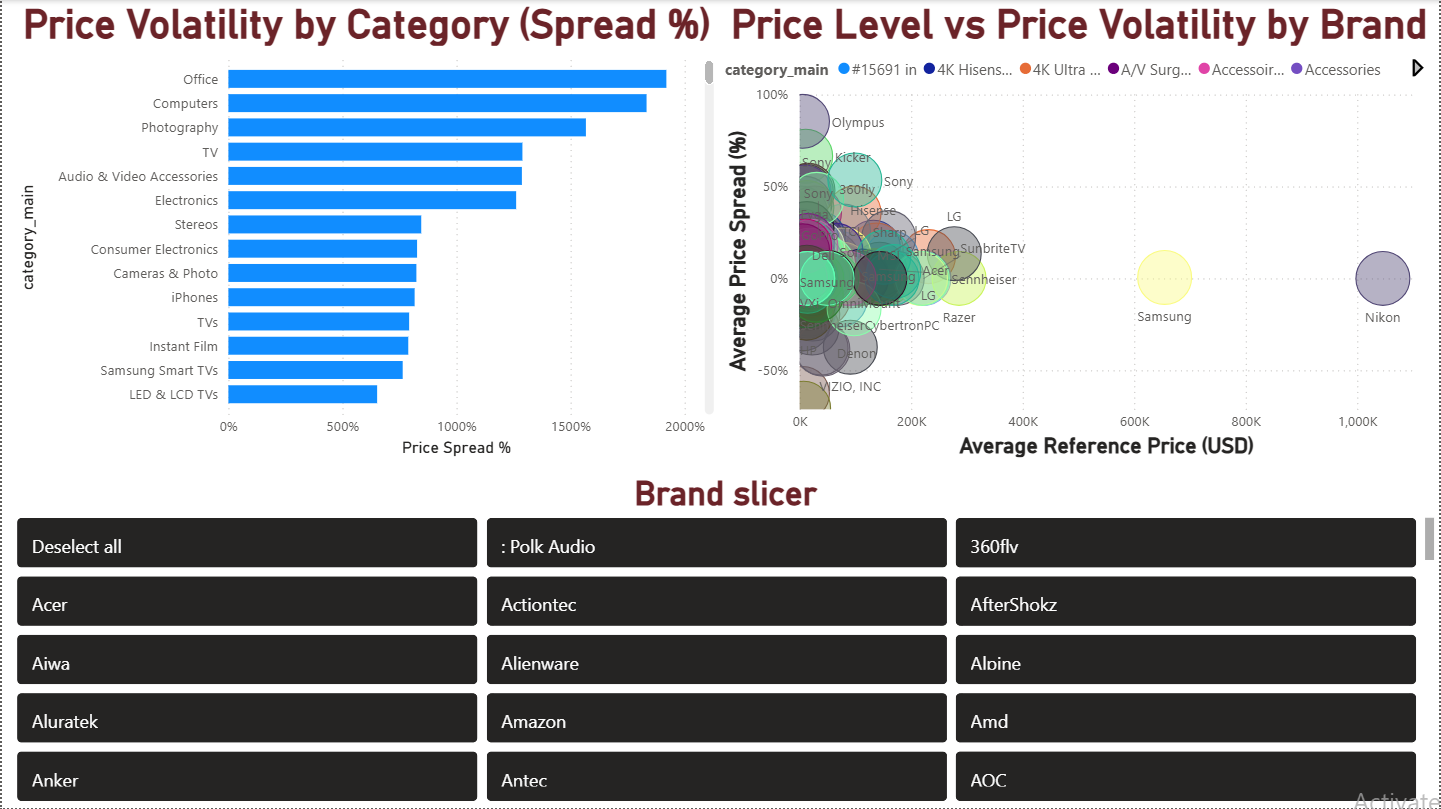

The page's visual inventory and layout, read from the dashboard file:
{"tool":"powerbi","page":{"name":"Page 2","canvas":[1280,720],"ordinal":1},"visuals":[{"type":"clusteredBarChart","title":"Price Volatility by Category (Spread %)","fields":{"Category":["pricing_benchmark_input.category_main"],"Y":["pricing_benchmark_input.Price Spread %"]},"box":[10.4,0,629.1,412],"z":0},{"type":"scatterChart","title":"Price Level vs Price Volatility by Brand","fields":{"X":["pricing_benchmark_input.Price Reference (Clean)"],"Category":["pricing_benchmark_input.brand"],"Series":["pricing_benchmark_input.category_main"],"Y":["pricing_benchmark_input.Avg Price Spread %"]},"box":[639.5,0,640.8,412],"z":2},{"type":"advancedSlicerVisual","title":"Brand slicer","fields":{"Values":["pricing_benchmark_input.brand"]},"box":[9.1,421.1,1271.2,297.6],"z":3}]}

Visuals, with their boxes in screenshot pixels (x1, y1, x2, y2), scaled from the page's 1280x720 canvas onto the 1441x809 screenshot:
"Price Volatility by Category (Spread %)" clusteredBarChart: left=12, top=0, right=720, bottom=463
"Price Level vs Price Volatility by Brand" scatterChart: left=720, top=0, right=1440, bottom=463
"Brand slicer" advancedSlicerVisual: left=10, top=473, right=1440, bottom=808
